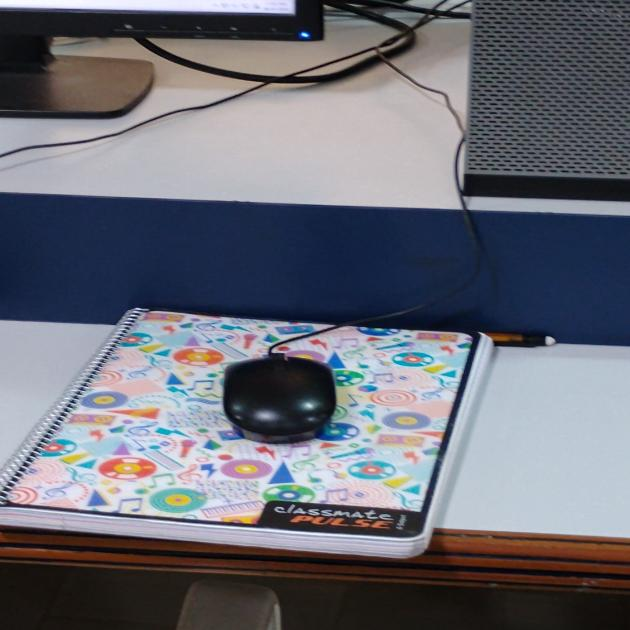cpu: (439, 0, 630, 215)
mouse: (231, 332, 348, 473)
